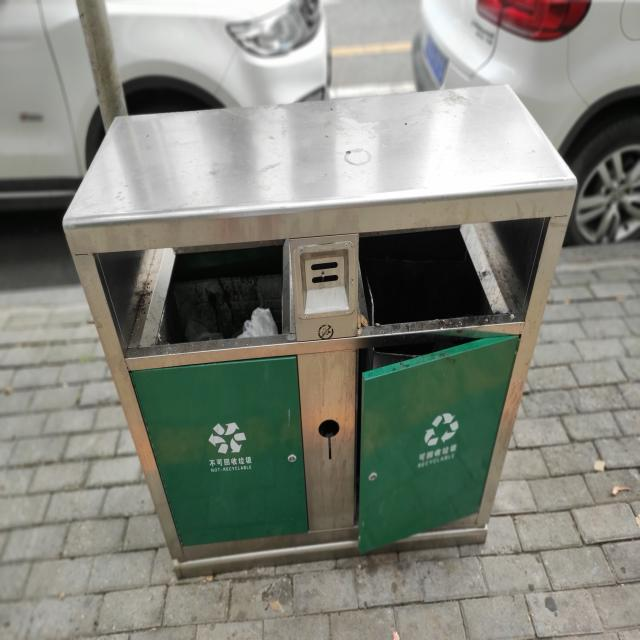ash bin: (62, 83, 583, 585)
car: (2, 4, 334, 218), (408, 1, 640, 247)
